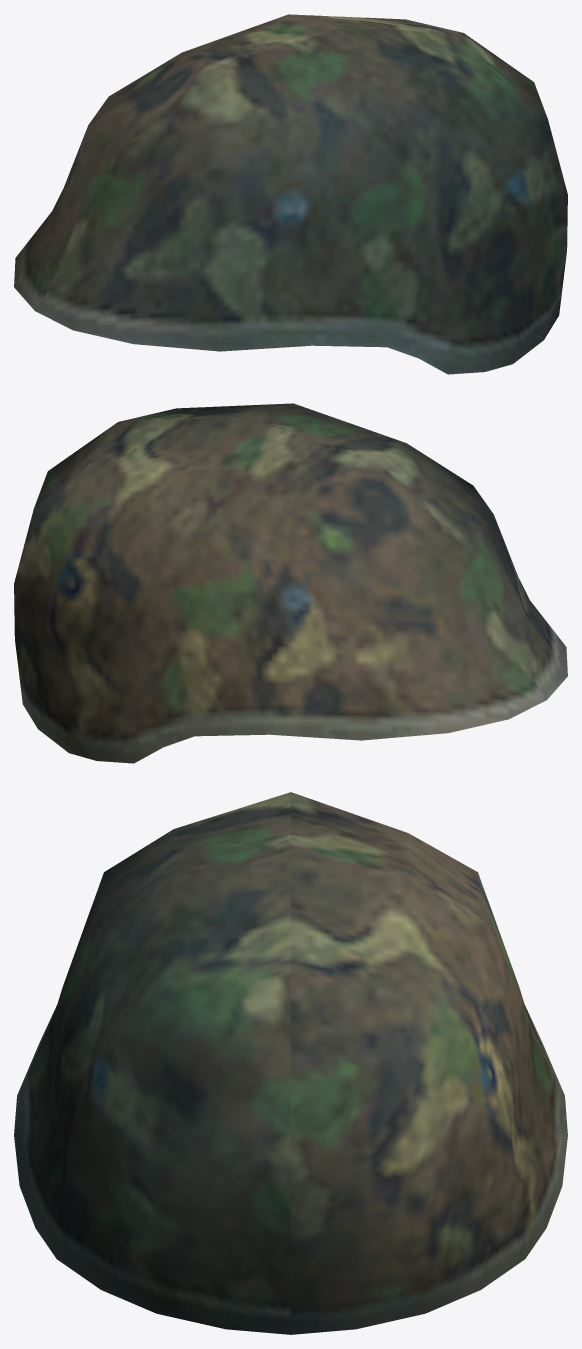
File: Pickup_HelmetB.glb
The picture shows the model from 3 angles, top to bottom: view 1: azimuth 30°, elevation 25°; view 2: azimuth 150°, elevation 25°; view 3: azimuth 270°, elevation 25°; orthographic projection. The views are drawn at different scales.
Parts seen in each view (by area): view 1: pk_helmet_b; view 2: pk_helmet_b; view 3: pk_helmet_b.
Part boxes in pixels (left/top/right/bottom): pk_helmet_b: left=14, top=14, right=567, bottom=374; pk_helmet_b: left=14, top=403, right=567, bottom=763; pk_helmet_b: left=14, top=792, right=567, bottom=1334.
Bounding box in the file's own units: 0.6004 × 0.3235 × 0.4534.
Materials: 1 (1 with a texture image).
